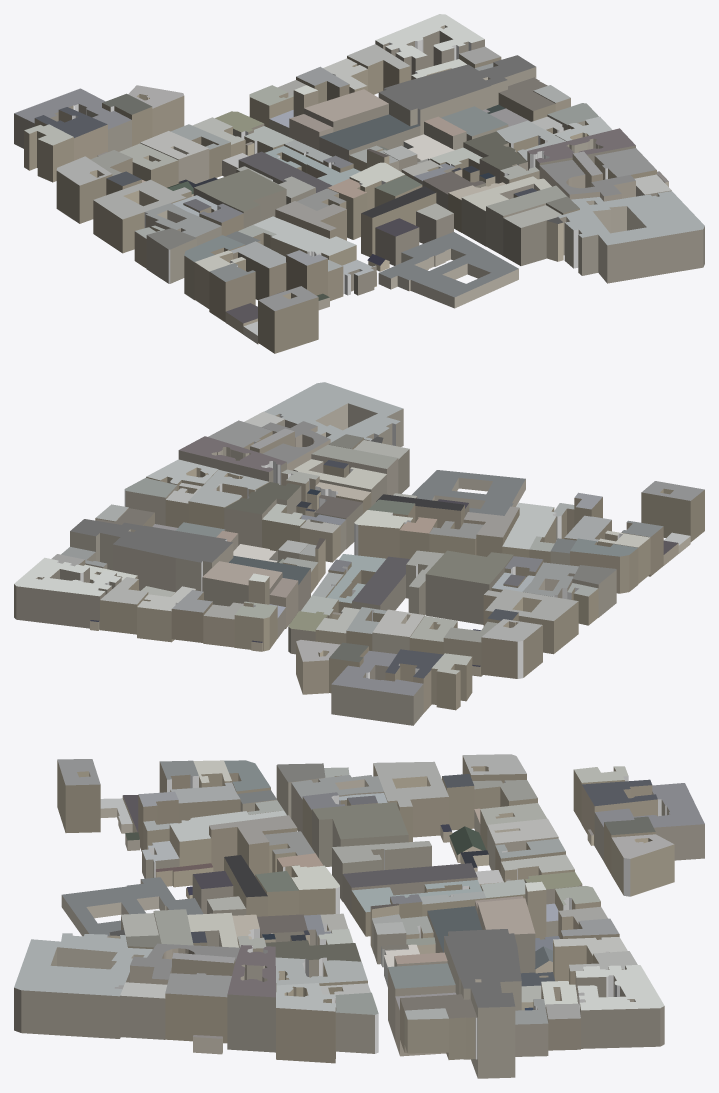
3 renders of one model, top to bottom at view 1: azimuth 30°, elevation 25°; view 2: azimuth 150°, elevation 25°; view 3: azimuth 270°, elevation 25°, orthographic. The views are drawn at different scales.
Visible parts, largest first — view 1: tuile; view 2: tuile; view 3: tuile.
Boxes of the visible parts, x1,y1,x2,y2 form: tuile: [14, 14, 704, 353]; tuile: [14, 382, 704, 725]; tuile: [14, 754, 704, 1078].
Bounding box in the file's own units: 261 × 38.45 × 293.
